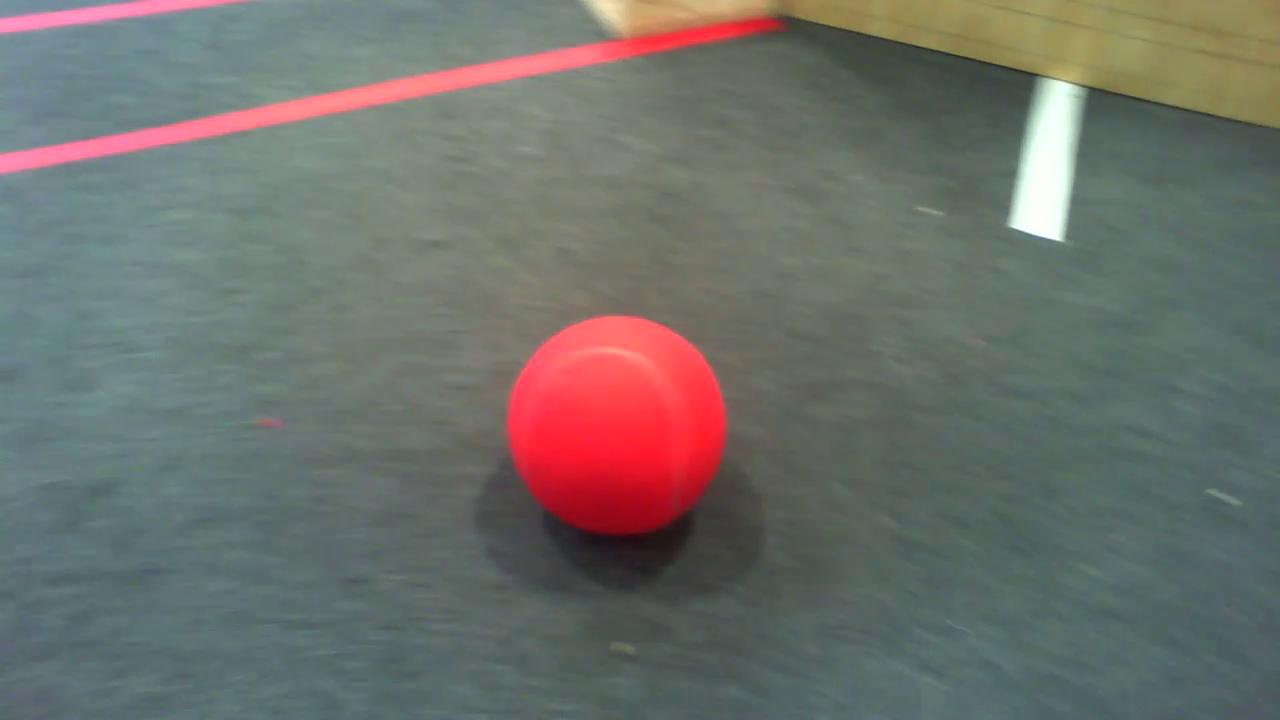Red_Ball: (501, 304, 733, 544)
